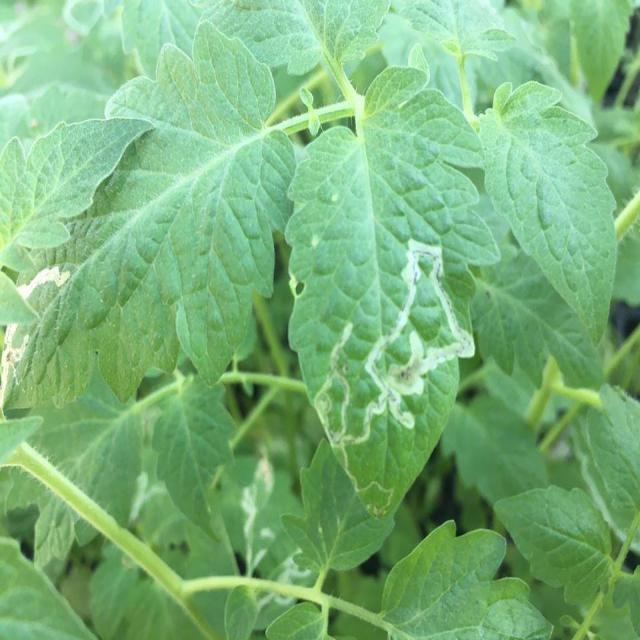Healthy: (478, 77, 619, 346), (494, 487, 613, 606)
